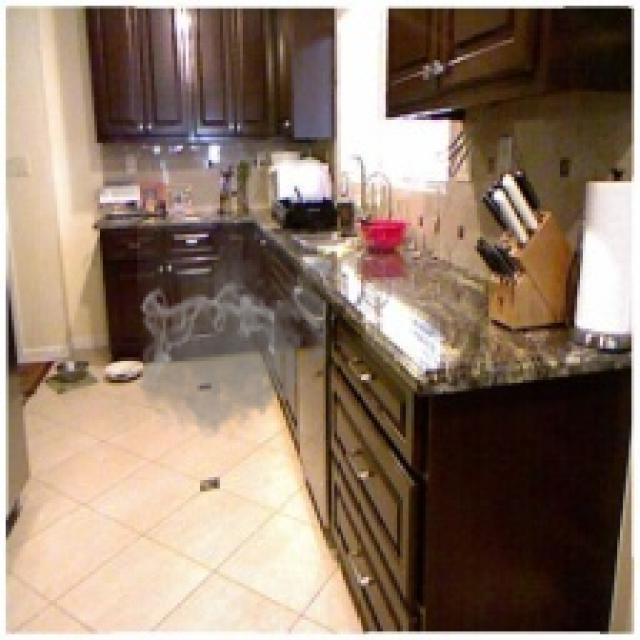Smoke: (134, 221, 340, 448)
